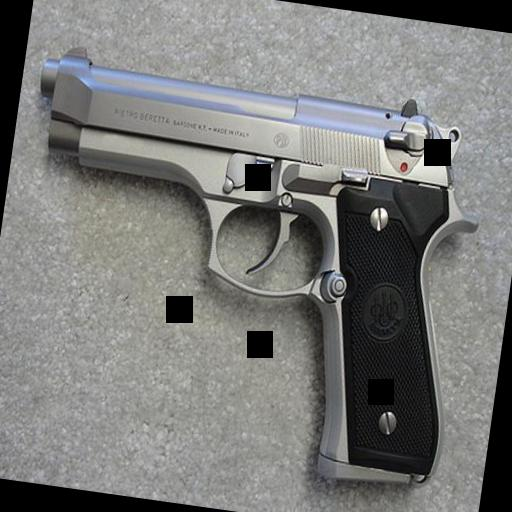Handgun: (0, 37, 496, 496)
